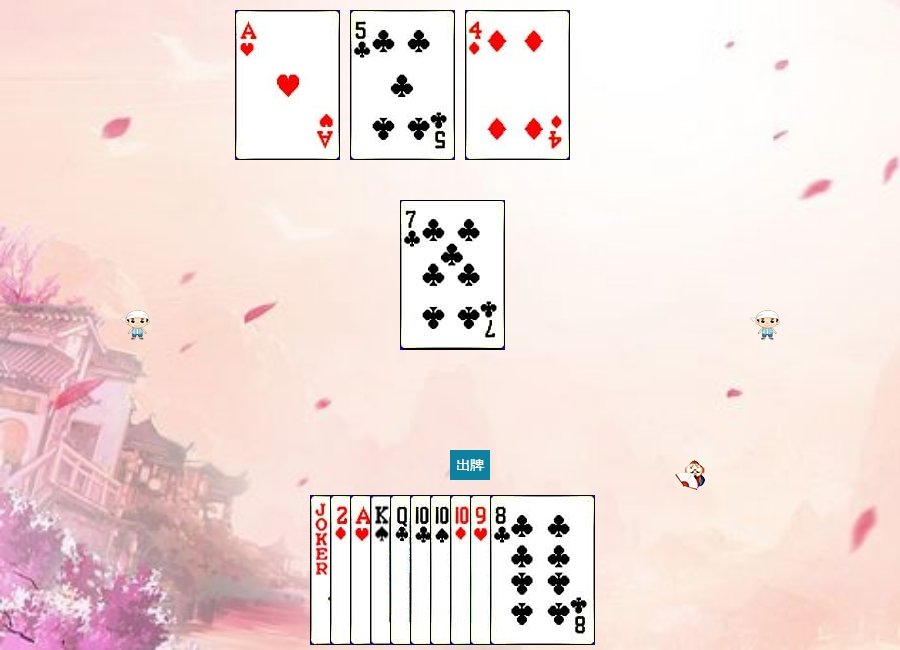10~1: (450, 495, 555, 645)
10~2: (410, 495, 515, 645)
10~4: (430, 495, 535, 645)
12~2: (390, 495, 495, 645)
13~4: (370, 495, 475, 645)
14~3: (235, 10, 340, 160), (350, 495, 455, 645)
15~1: (330, 495, 435, 645)
18~4: (310, 495, 415, 645)
4~1: (465, 10, 570, 160)
5~2: (350, 10, 455, 160)
7~2: (400, 200, 505, 350)
8~2: (490, 495, 595, 645)
9~3: (470, 495, 575, 645)
